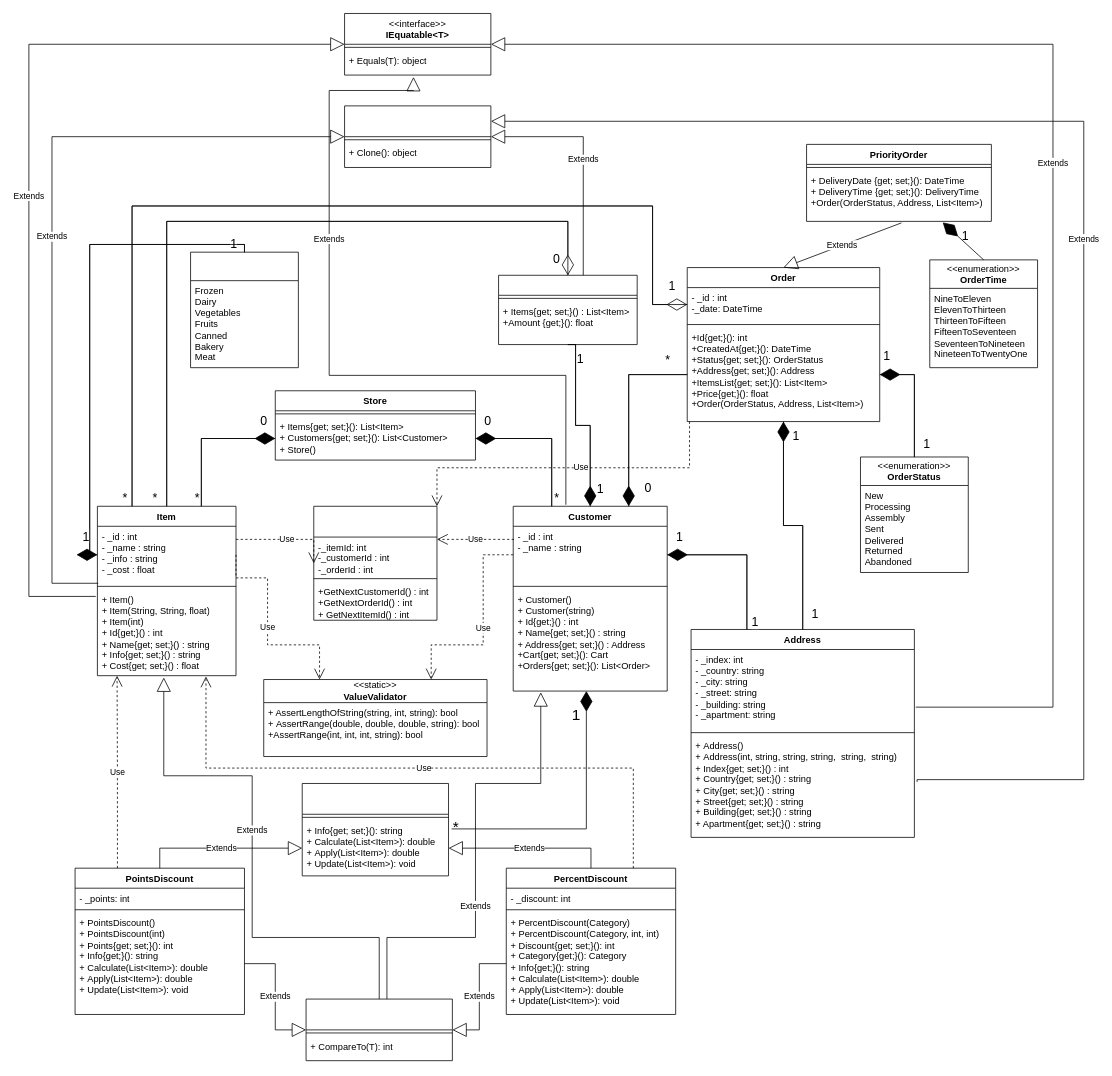
Some shapes in this 1112 by 1076 pixel diagram are drawn without their labels. The shapes that lost their labels are listed below. From the top down, each one's box as (x1, y1, x2, y2) in pixels, then its label:
(344, 105, 491, 167): <<interface>> ICloneable
(190, 251, 298, 368): <<enumeration>> Category
(498, 275, 637, 345): Cart
(313, 506, 437, 620): <<static>> IdGenerator
(301, 783, 449, 876): <<interface>> IDiscount
(305, 998, 452, 1061): <<interface>> IComparable<T>
